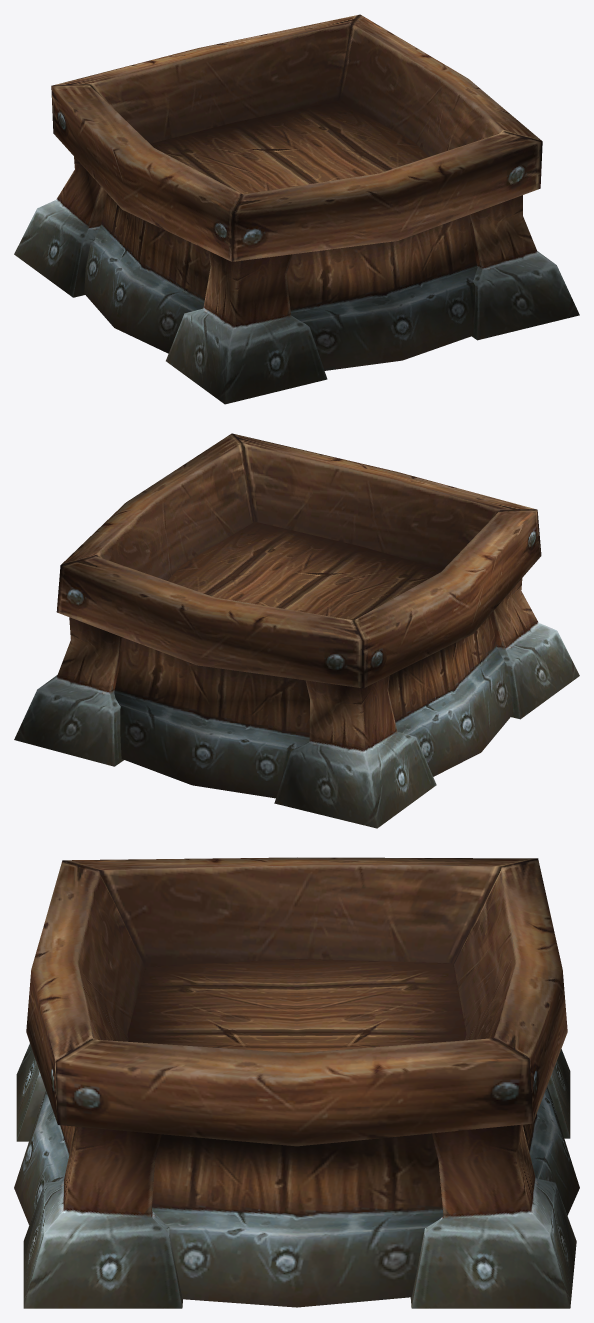
The model's file is 6hu_salvageyard_scrapbinempty.obj.
The picture shows the model from 3 angles, top to bottom: view 1: azimuth 30°, elevation 25°; view 2: azimuth 150°, elevation 25°; view 3: azimuth 270°, elevation 25°; orthographic projection. The views are drawn at different scales.
Visible parts, largest first — view 1: 6HU_SALVAGEYARD_SCRAPBINEMPTY0; view 2: 6HU_SALVAGEYARD_SCRAPBINEMPTY0; view 3: 6HU_SALVAGEYARD_SCRAPBINEMPTY0.
Part boxes in pixels (x1,y1,x2,y2): 6HU_SALVAGEYARD_SCRAPBINEMPTY0: (14,14,579,404); 6HU_SALVAGEYARD_SCRAPBINEMPTY0: (14,433,579,828); 6HU_SALVAGEYARD_SCRAPBINEMPTY0: (14,857,579,1308).
Size of the model in its own units: 2.68 by 1.24 by 2.68.
1 material, 1 textured.
